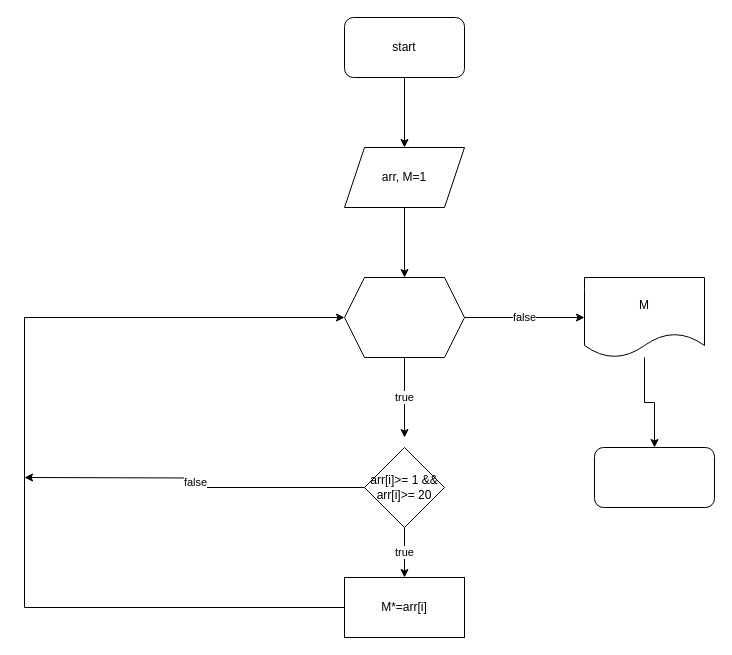
Image size: 732x655. Some labels were removed from this diagram. Here are the shapes that lost their labels. From the top down, the box of each, then its label:
(344, 276, 464, 358): i<0; i<arr.length; i++
(594, 446, 714, 508): end
